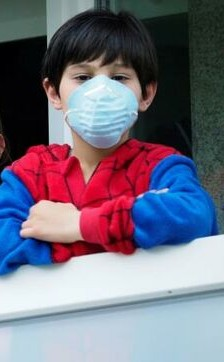with_mask: (34, 10, 167, 151)
